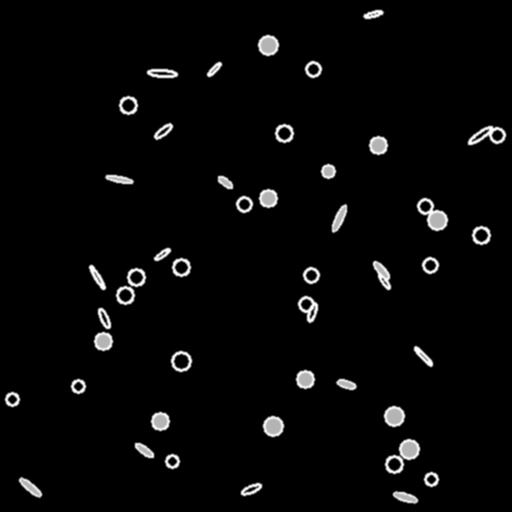pseudomonas: (467, 124, 493, 146), (330, 203, 348, 233), (18, 476, 42, 498), (88, 264, 106, 290), (413, 346, 433, 366), (392, 490, 418, 504), (134, 441, 154, 459), (153, 122, 173, 140), (372, 260, 390, 280), (240, 482, 262, 496), (376, 272, 392, 290), (97, 308, 111, 328), (106, 174, 132, 184), (153, 247, 171, 261), (216, 175, 234, 189), (336, 378, 356, 390), (147, 69, 177, 77), (306, 303, 318, 321), (363, 9, 383, 19), (207, 62, 221, 76)
synechocystis: (259, 36, 277, 54), (400, 440, 418, 458), (385, 407, 403, 425), (172, 352, 190, 370), (264, 417, 282, 435), (428, 211, 446, 229), (117, 287, 133, 303), (473, 227, 489, 243), (120, 97, 136, 113), (260, 190, 276, 206), (297, 371, 313, 387), (152, 413, 168, 429), (370, 137, 386, 153), (173, 259, 189, 275), (276, 125, 292, 141), (128, 269, 144, 285), (95, 333, 111, 349), (386, 456, 402, 472), (418, 199, 432, 213), (306, 62, 320, 76), (423, 258, 437, 272), (304, 268, 318, 282), (299, 297, 313, 311), (237, 197, 251, 211), (490, 128, 504, 142), (6, 393, 18, 405), (425, 473, 437, 485), (72, 380, 84, 392), (166, 455, 178, 467), (322, 165, 334, 177)
